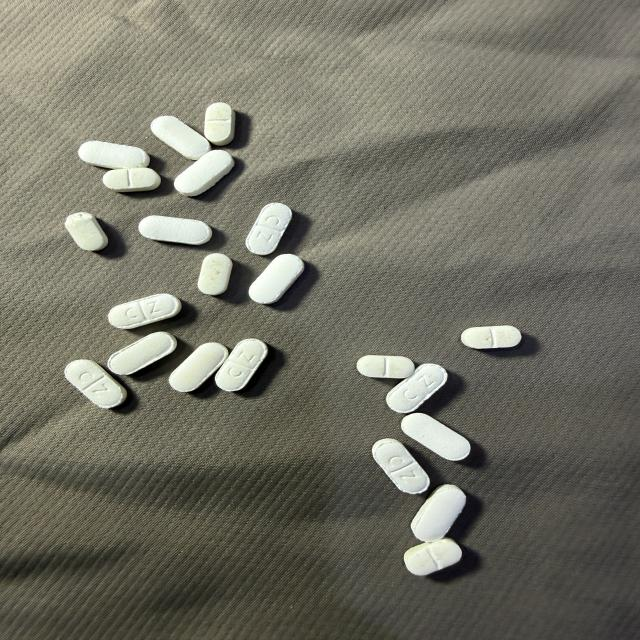pill: (402, 413, 470, 460), (411, 485, 466, 542), (372, 439, 429, 493), (387, 364, 447, 413), (65, 360, 126, 408), (169, 343, 228, 392), (108, 332, 176, 374), (174, 150, 234, 196), (249, 254, 304, 304), (215, 339, 267, 391), (151, 116, 211, 160), (108, 294, 181, 329), (246, 203, 292, 255), (139, 216, 212, 245), (404, 539, 461, 575), (78, 141, 150, 168), (65, 213, 107, 251), (198, 254, 232, 295), (461, 326, 521, 349), (103, 168, 160, 192), (357, 355, 414, 378), (205, 103, 235, 145)
